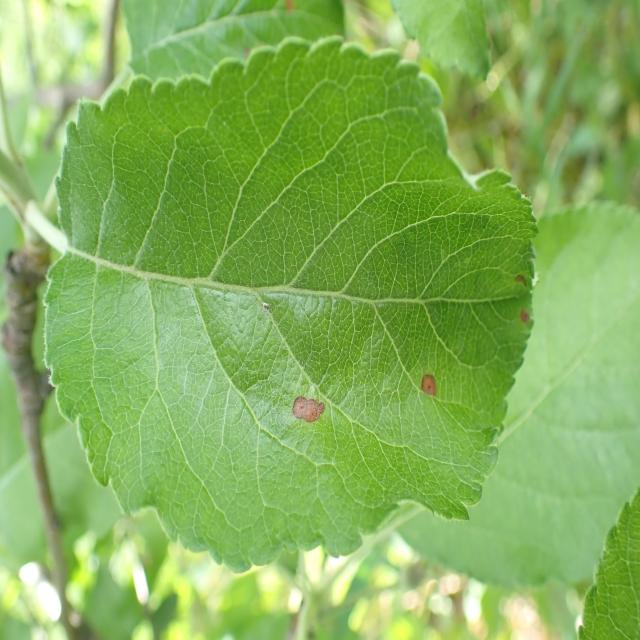frog-eye-leaf-spot: (41, 33, 542, 577)
